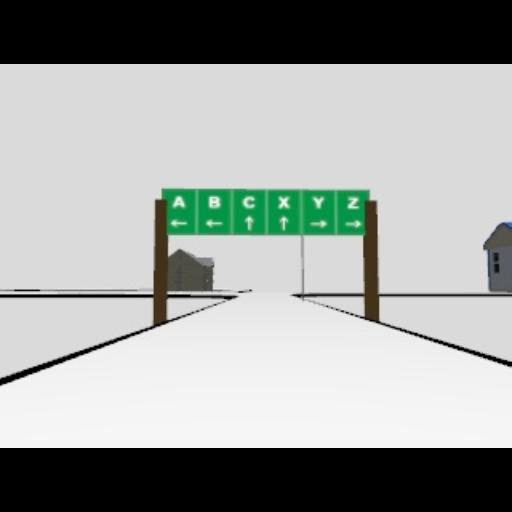A: (172, 196, 186, 208)
B: (208, 195, 222, 209)
C: (242, 195, 256, 209)
Left: (170, 218, 188, 228), (205, 219, 223, 229)
Right: (310, 219, 328, 229), (344, 220, 362, 228)
Straight: (244, 214, 254, 232), (280, 215, 288, 231)
X: (277, 195, 291, 209)
Y: (311, 194, 325, 210)
Z: (346, 196, 360, 210)
